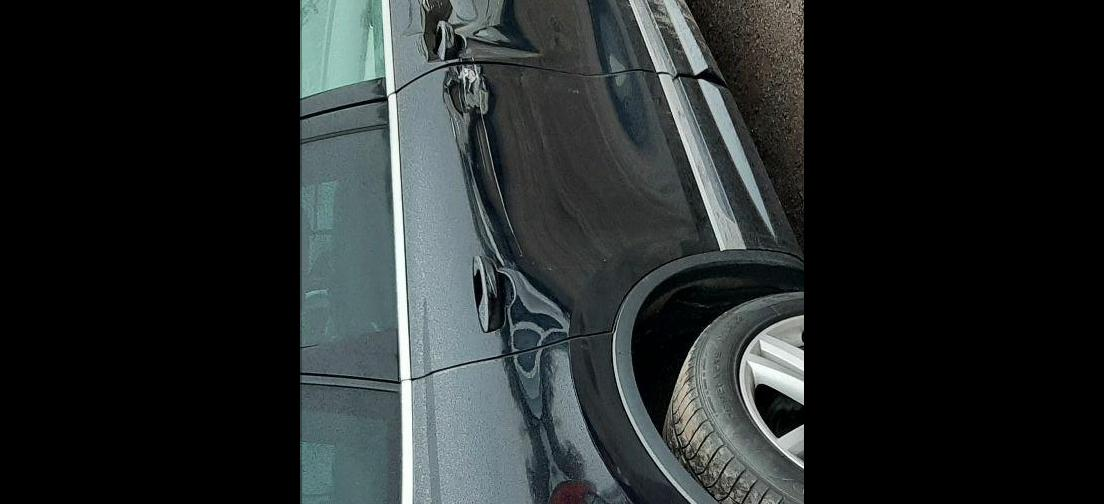Dent: (405, 0, 544, 61), (449, 62, 489, 118)
Scratch: (469, 50, 527, 259), (471, 112, 490, 180), (439, 99, 461, 146), (456, 64, 475, 98)
